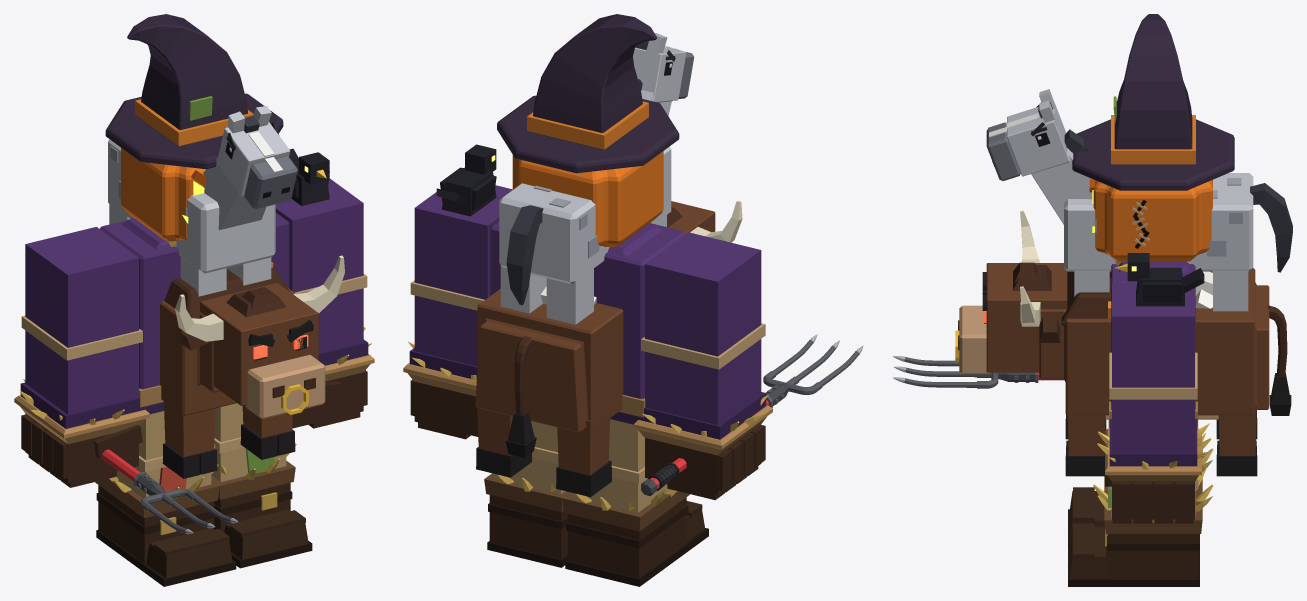
Rendered from w1_enemies.fbx.
3 renders of one model, left to right at view 1: azimuth 30°, elevation 25°; view 2: azimuth 150°, elevation 25°; view 3: azimuth 270°, elevation 25°, orthographic. The views are drawn at different scales.
Visible parts, largest first — view 1: ScarecrowKing.Hat, ScarecrowKing.RightArm, Bull.Head, ScarecrowKing.LeftArm, ScarecrowKing.RightLowerArm, ScarecrowKing.Torso, ScarecrowKing.RightBoot, Stallion.Torso, ScarecrowKing.RightGlove, ScarecrowKing.Head, Bull.Torso, ScarecrowKing.LeftBoot (+36 smaller); view 2: ScarecrowKing.Hat, Bull.Torso, ScarecrowKing.RightArm, Stallion.Torso, ScarecrowKing.LeftArm, ScarecrowKing.Head, ScarecrowKing.Torso, ScarecrowKing.RightLowerArm, ScarecrowKing.RightBoot, ScarecrowKing.RightGlove, ScarecrowKing.LeftLowerArm, ScarecrowKing.LeftBoot (+32 smaller); view 3: Bull.Torso, ScarecrowKing.Hat, ScarecrowKing.Head, ScarecrowKing.LeftArm, Stallion.Torso, Bull.Head, ScarecrowKing.LeftBoot, Stallion.Head, ScarecrowKing.LeftLowerArm, ScarecrowKing.LeftGlove, ScarecrowKing.Crow, Bull.TorsoDark (+25 smaller).
Boxes of the visible parts, x1=… form: ScarecrowKing.Hat: x1=105, y1=14, x2=283, y2=169; ScarecrowKing.RightArm: x1=25, y1=227, x2=138, y2=347; Bull.Head: x1=200, y1=283, x2=318, y2=405; ScarecrowKing.LeftArm: x1=275, y1=178, x2=363, y2=292; ScarecrowKing.RightLowerArm: x1=25, y1=330, x2=138, y2=414; ScarecrowKing.Torso: x1=100, y1=212, x2=289, y2=389; ScarecrowKing.RightBoot: x1=98, y1=485, x2=232, y2=578; Stallion.Torso: x1=108, y1=139, x2=275, y2=273; ScarecrowKing.RightGlove: x1=21, y1=413, x2=142, y2=487; ScarecrowKing.Head: x1=121, y1=148, x2=206, y2=241; Bull.Torso: x1=160, y1=287, x2=294, y2=415; ScarecrowKing.LeftBoot: x1=214, y1=482, x2=308, y2=559; ScarecrowKing.Hat: x1=497, y1=14, x2=679, y2=173; Bull.Torso: x1=475, y1=289, x2=623, y2=432; ScarecrowKing.RightArm: x1=645, y1=232, x2=761, y2=356; Stallion.Torso: x1=499, y1=146, x2=671, y2=284; ScarecrowKing.LeftArm: x1=414, y1=185, x2=512, y2=299; ScarecrowKing.Head: x1=512, y1=151, x2=663, y2=247; ScarecrowKing.Torso: x1=490, y1=222, x2=685, y2=398; ScarecrowKing.RightLowerArm: x1=645, y1=339, x2=761, y2=424; ScarecrowKing.RightBoot: x1=567, y1=497, x2=704, y2=578; ScarecrowKing.RightGlove: x1=645, y1=424, x2=765, y2=500; ScarecrowKing.LeftLowerArm: x1=414, y1=295, x2=477, y2=366; ScarecrowKing.LeftBoot: x1=489, y1=495, x2=567, y2=559; Bull.Torso: x1=1039, y1=268, x2=1269, y2=415; ScarecrowKing.Hat: x1=1072, y1=14, x2=1234, y2=190; ScarecrowKing.Head: x1=1093, y1=179, x2=1212, y2=261; ScarecrowKing.LeftArm: x1=1112, y1=282, x2=1194, y2=387; Stallion.Torso: x1=1064, y1=173, x2=1253, y2=271; Bull.Head: x1=986, y1=263, x2=1067, y2=372; ScarecrowKing.LeftBoot: x1=1069, y1=523, x2=1198, y2=579; Stallion.Head: x1=1007, y1=103, x2=1092, y2=224; ScarecrowKing.LeftLowerArm: x1=1112, y1=399, x2=1194, y2=452; ScarecrowKing.LeftGlove: x1=1105, y1=475, x2=1194, y2=523; ScarecrowKing.Crow: x1=1127, y1=253, x2=1204, y2=306; Bull.TorsoDark: x1=1061, y1=271, x2=1287, y2=376.
Bounding box in the file's own units: 10.72 × 16.11 × 11.42.
